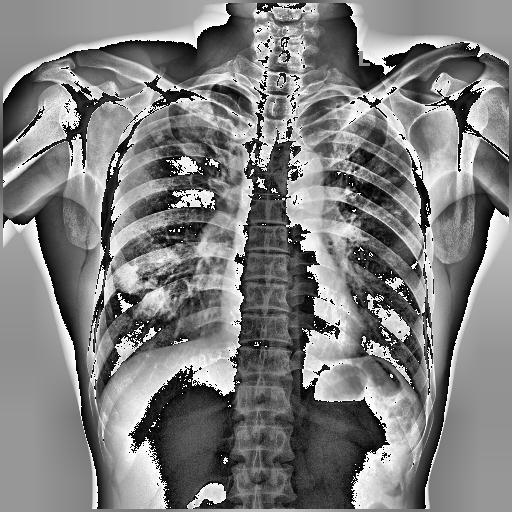13- Pulmonary fibrosis: (319, 106, 410, 224), (140, 92, 248, 167)
6- Infiltration: (319, 106, 410, 224), (140, 92, 248, 167), (148, 96, 228, 160), (141, 100, 210, 170), (354, 142, 407, 226), (115, 263, 179, 319), (347, 152, 407, 186), (116, 274, 160, 296)
7- Lung Opacity: (148, 96, 228, 160), (354, 142, 407, 226), (115, 263, 179, 319), (118, 272, 156, 294), (320, 95, 350, 114)
